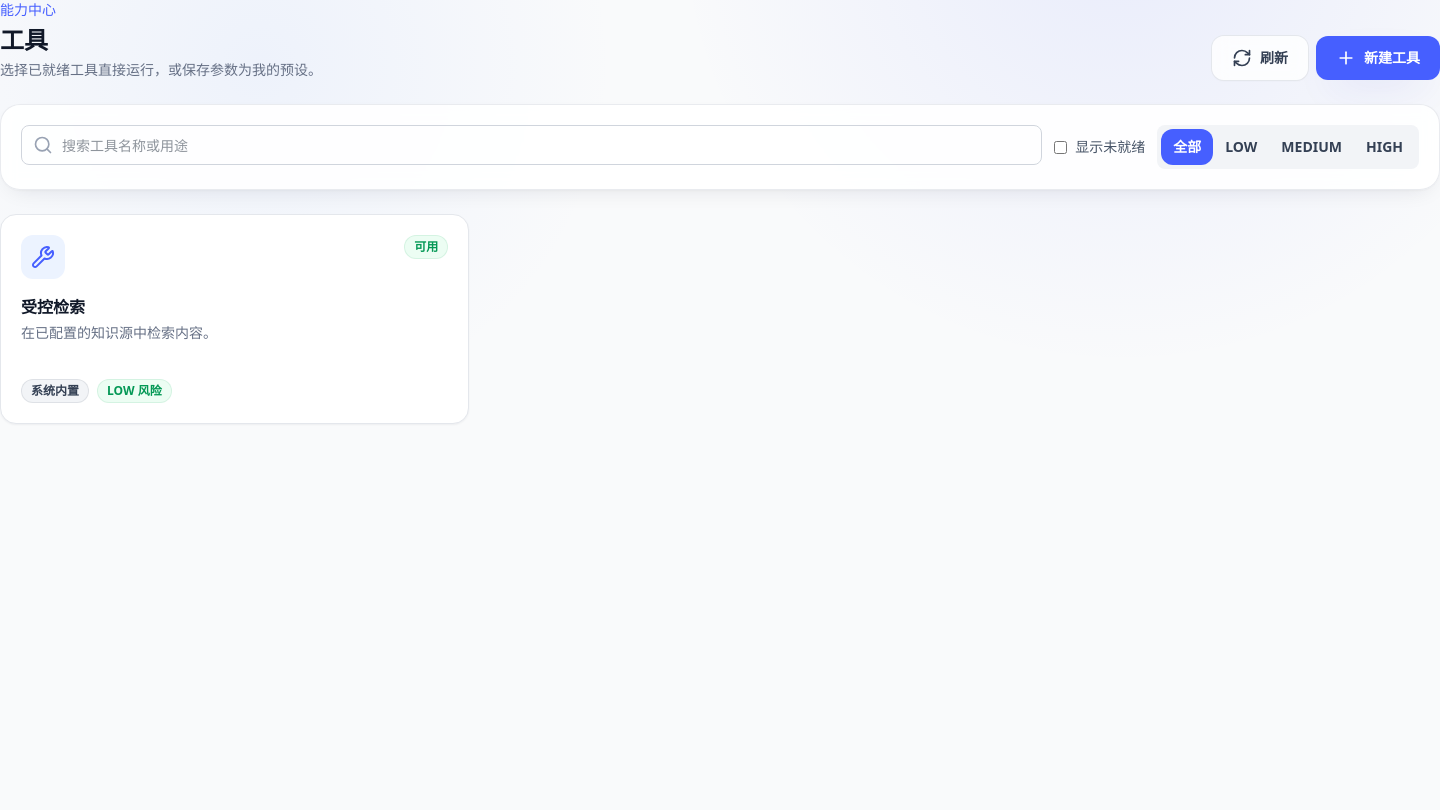
capabilities page › opens capability details in a dialog and closes from the header action
The image size is (1440, 810).
Click the button "可用 受控检索 在已配置的知识源中检索内容。 系统内置 LOW 风险" at {"x": 43, "y": 257}, box [1,215,468,423]
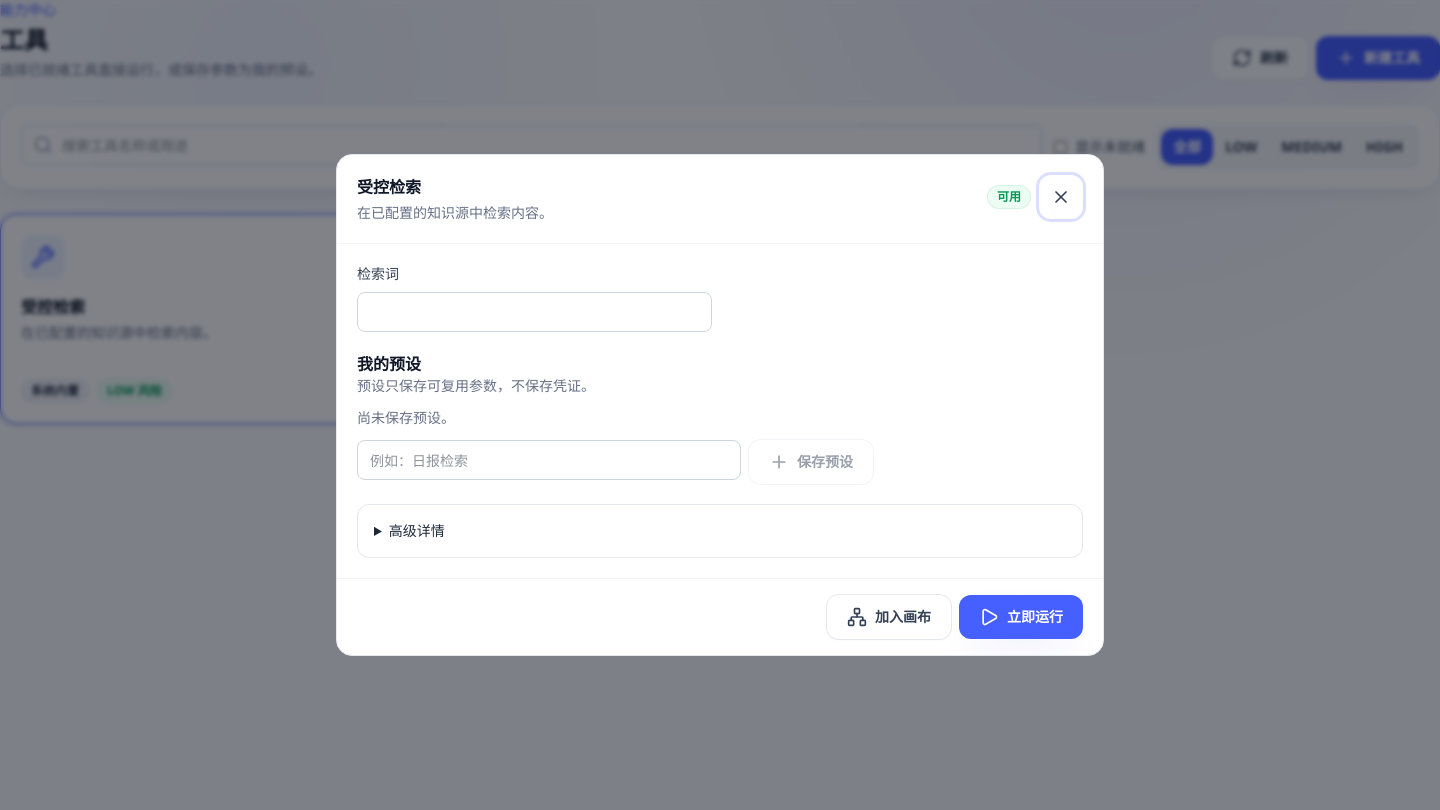
Expected: the dialog "受控检索" is shown, [336,154,1104,656]
Expected: the field labelled "检索词" is shown, [357,292,712,332]
Expected: the heading "我的预设" is shown, [357,353,421,375]
Click the button named "关闭详情" at {"x": 1061, "y": 197}, box [1039,175,1083,219]
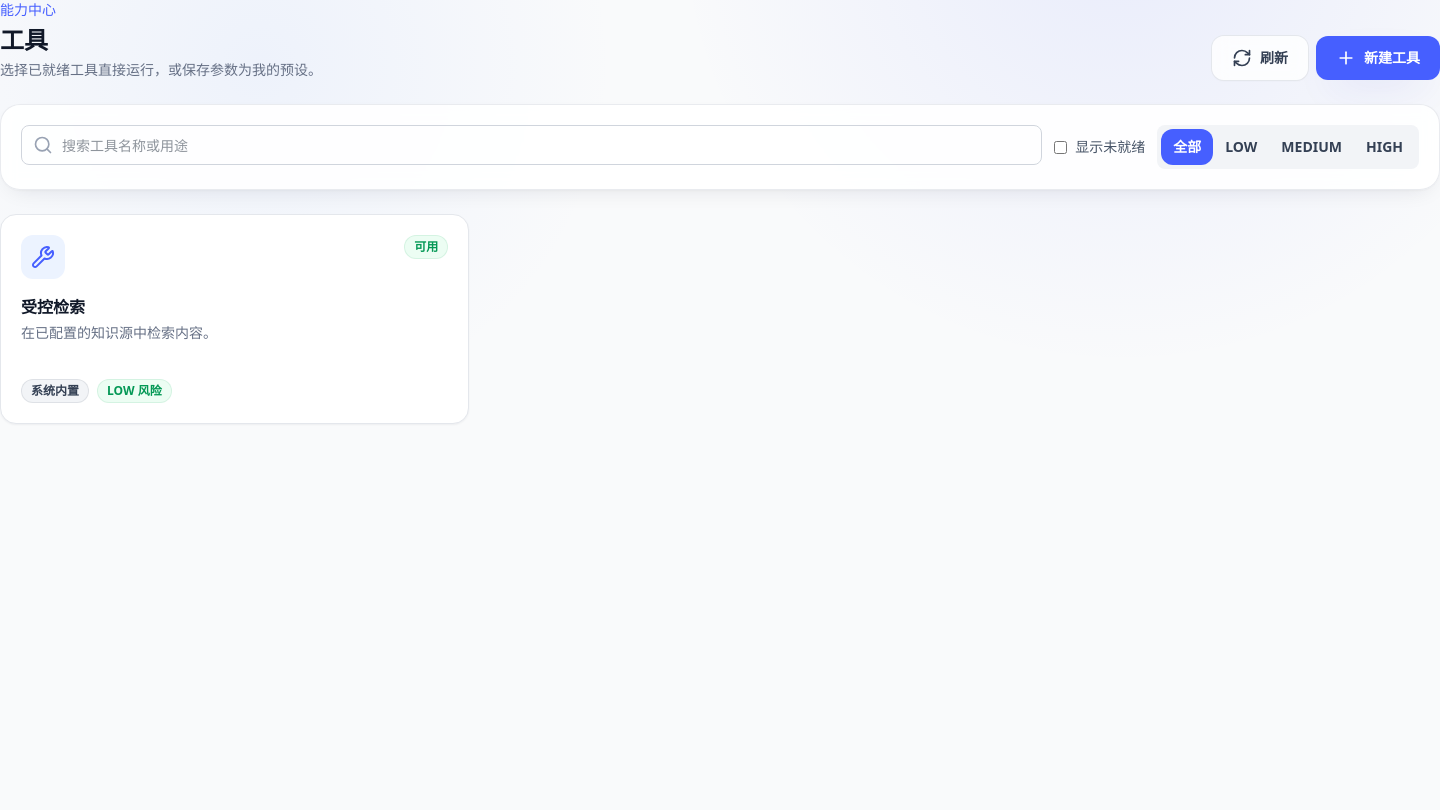
Expected: the dialog is gone
